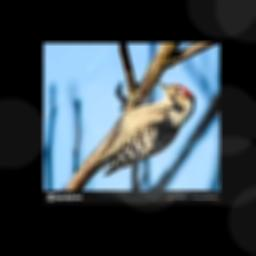Woodpecker: (92, 81, 195, 176)
